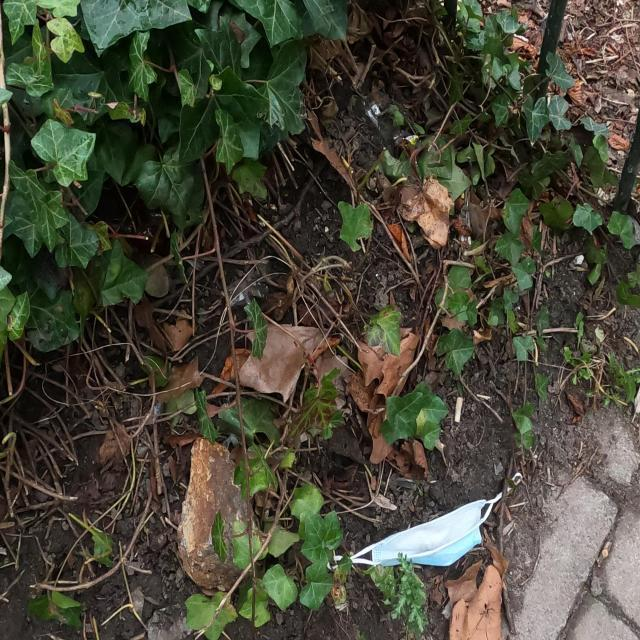Mask: (325, 466, 525, 572)
